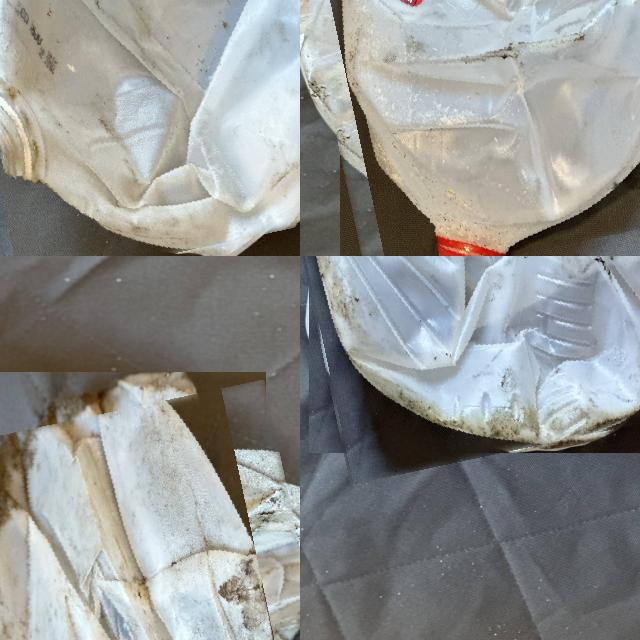milk-jug: (300, 0, 640, 256), (0, 0, 300, 256), (0, 397, 300, 640), (300, 256, 640, 468)
